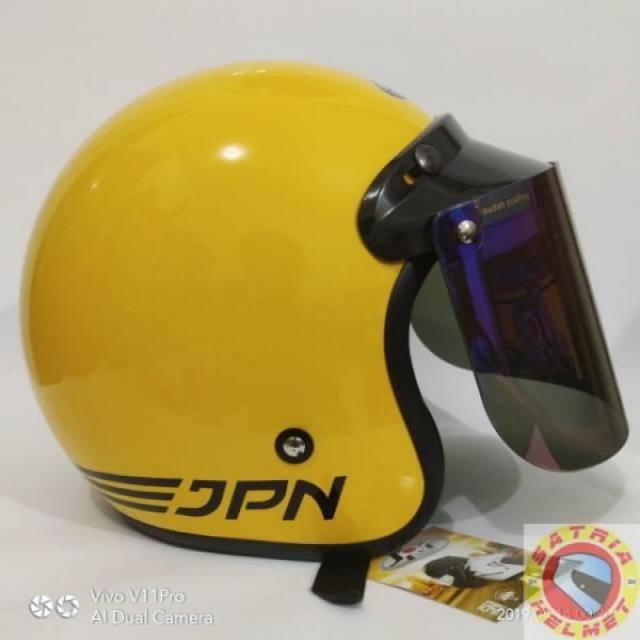Helmet: (20, 48, 630, 611)
